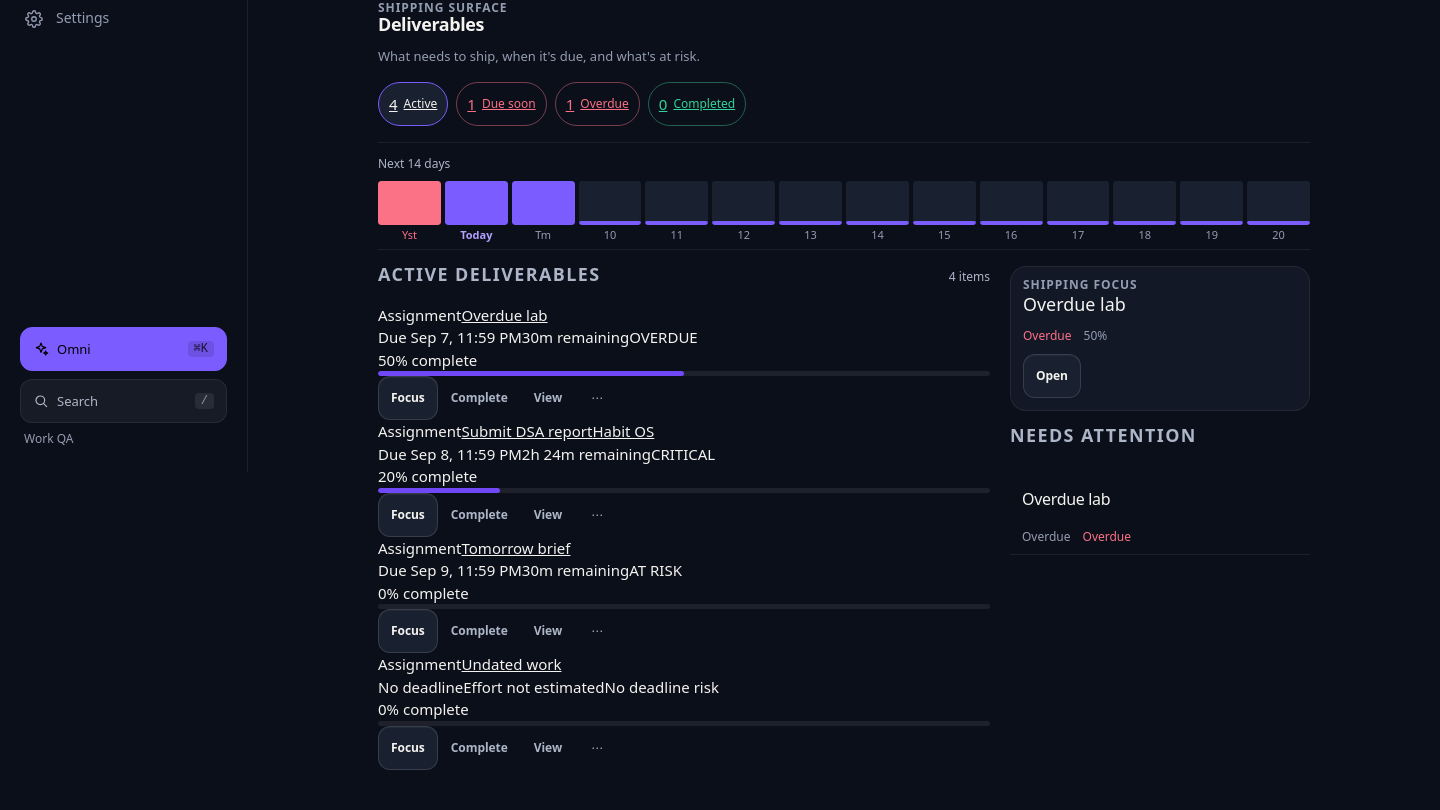
Work routes and execution journeys › opens a deliverable detail with deadline/progress before subtasks and starts its own focus
(page scrolled)
What coordinates should you click on to do the following:
click the link with aria-label "View Submit DSA report"
I would click on:
 (548, 514)
Its box is [534, 506, 562, 523].
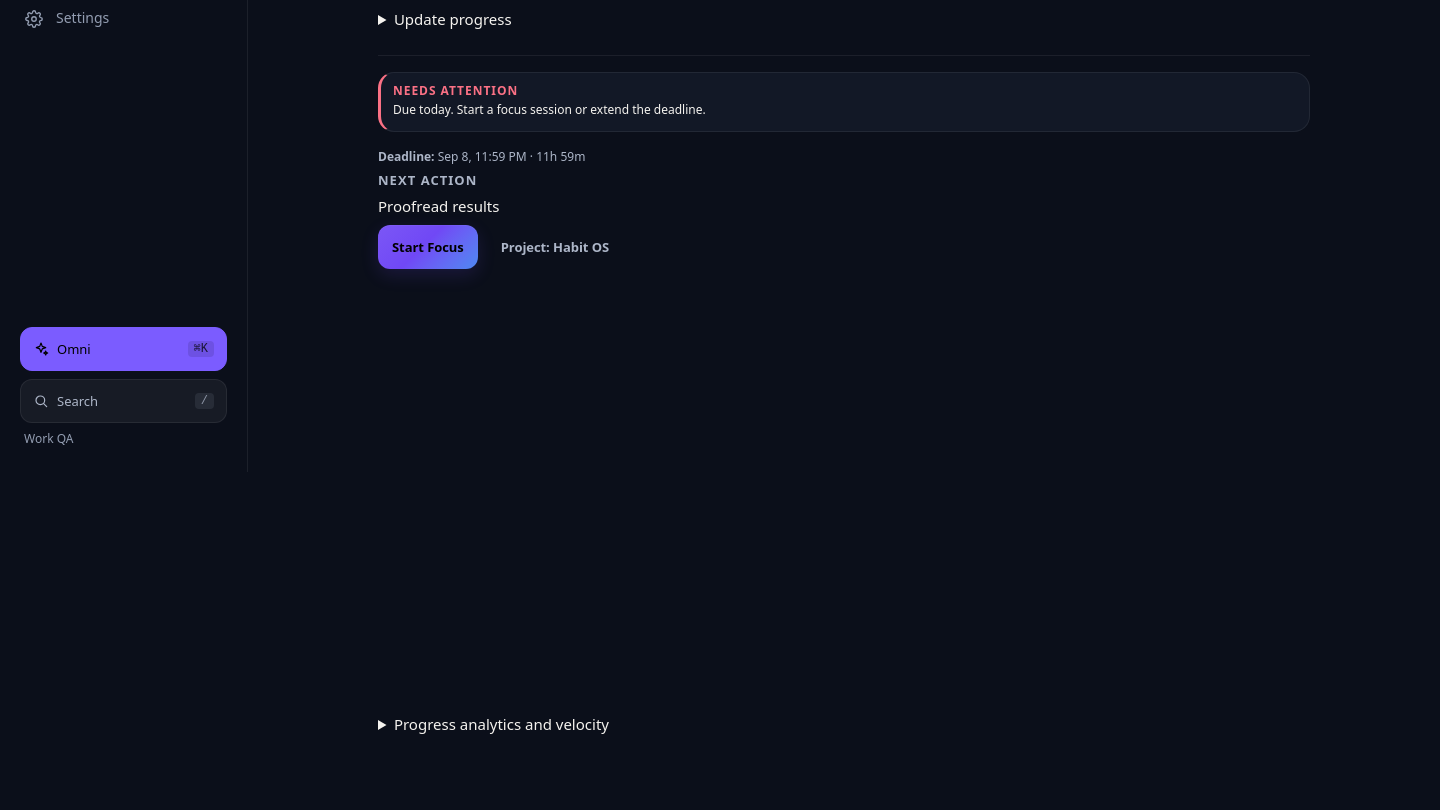
What coordinates should you click on to do the following:
click the button "Start Focus"
I would click on:
 (428, 247)
Its box is [378, 225, 478, 269].
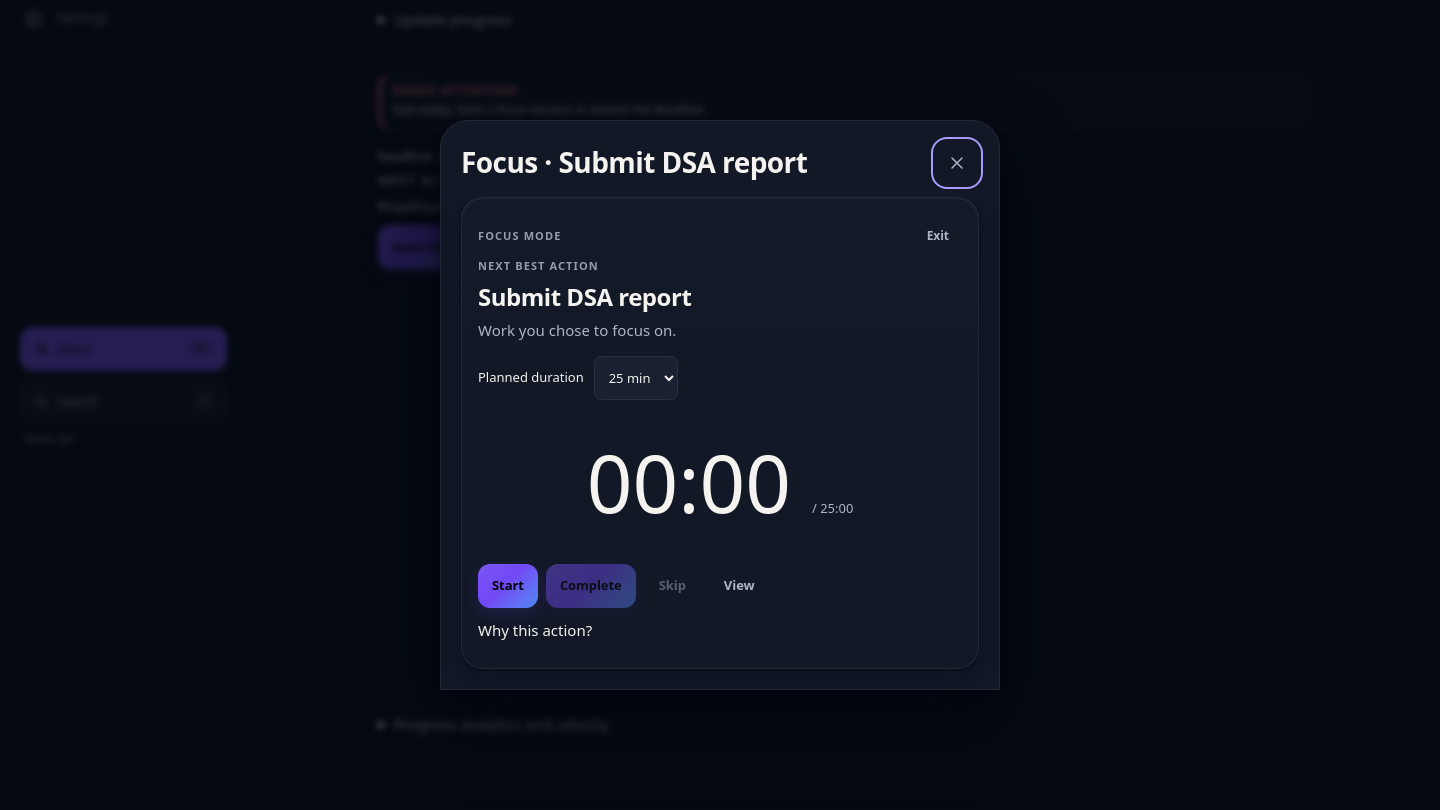
Expected: the heading "Submit DSA report" is shown, [478, 280, 691, 313]
What coordinates should you click on to do the following:
click the button "Start"
I would click on:
 (508, 586)
Its box is [478, 564, 538, 608].
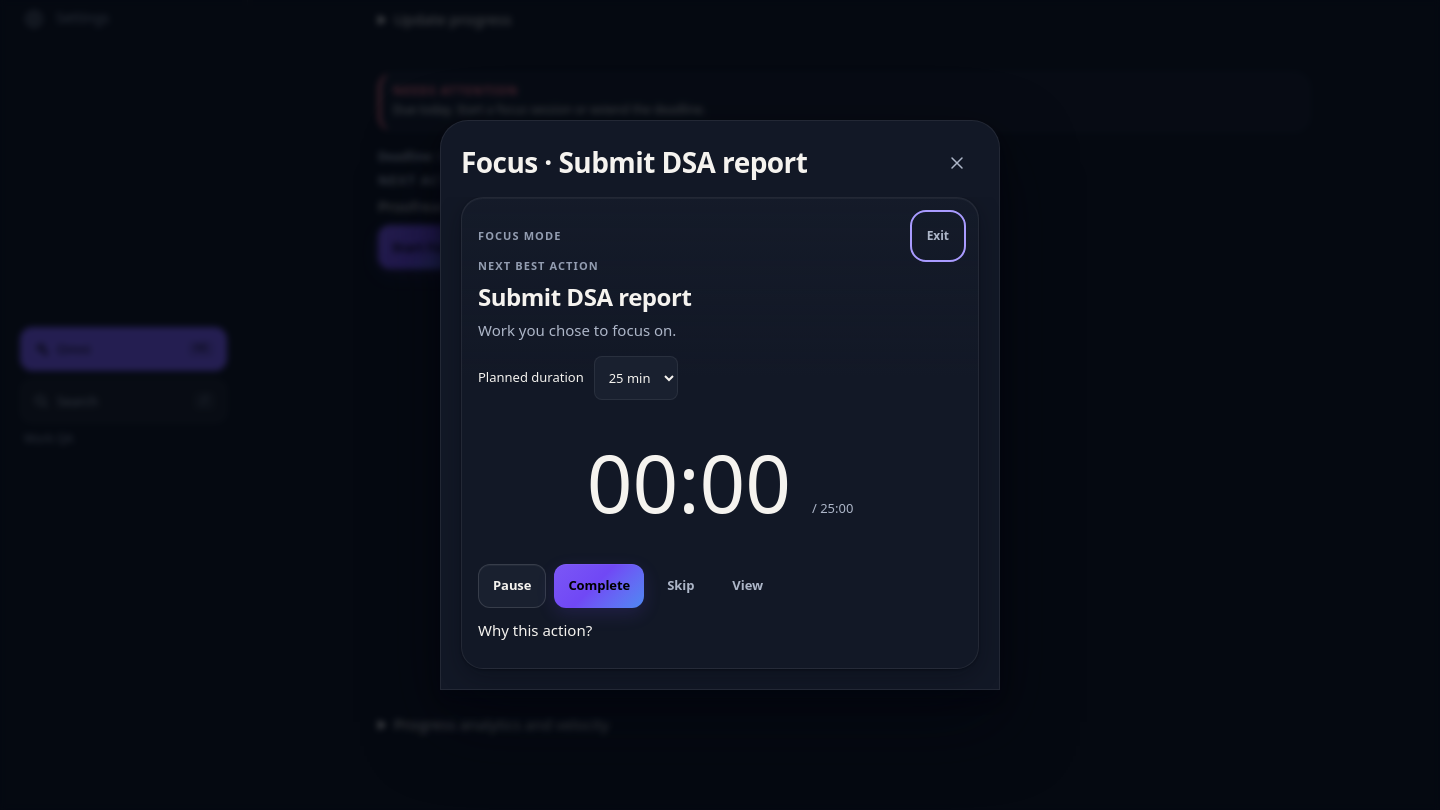
Expected: the button "Pause" is shown, [478, 564, 546, 608]
